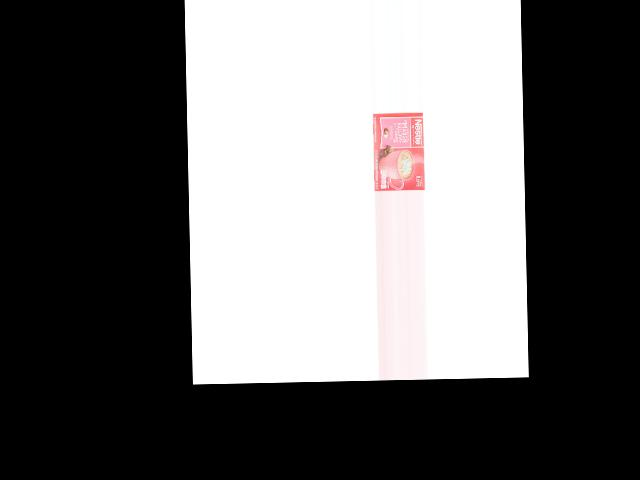chocolate: (369, 114, 423, 191)
